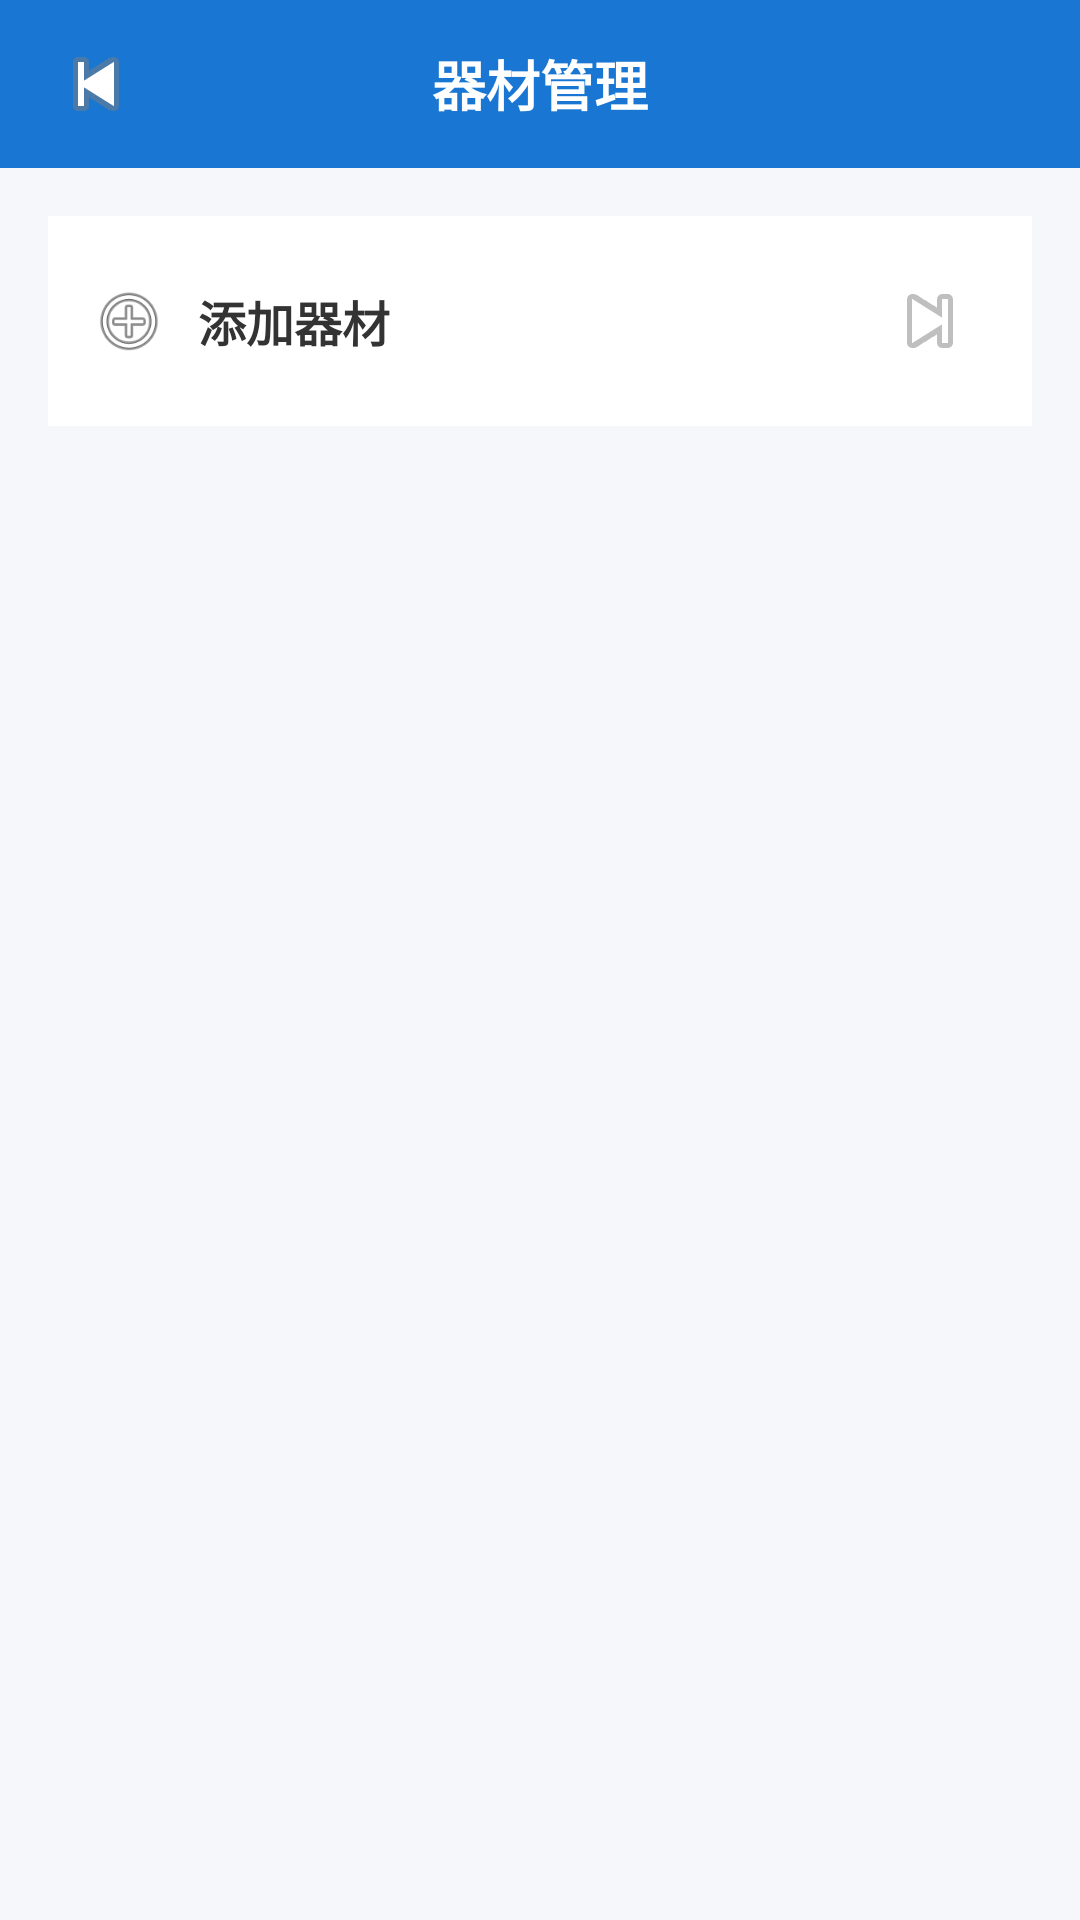

Icon bounding boxes for this 1080×1920 phone screenshot, format (x1, y1, x2, y2):
add: (100, 292, 158, 350)
next: (907, 294, 953, 348)
previous: (73, 57, 119, 111)
